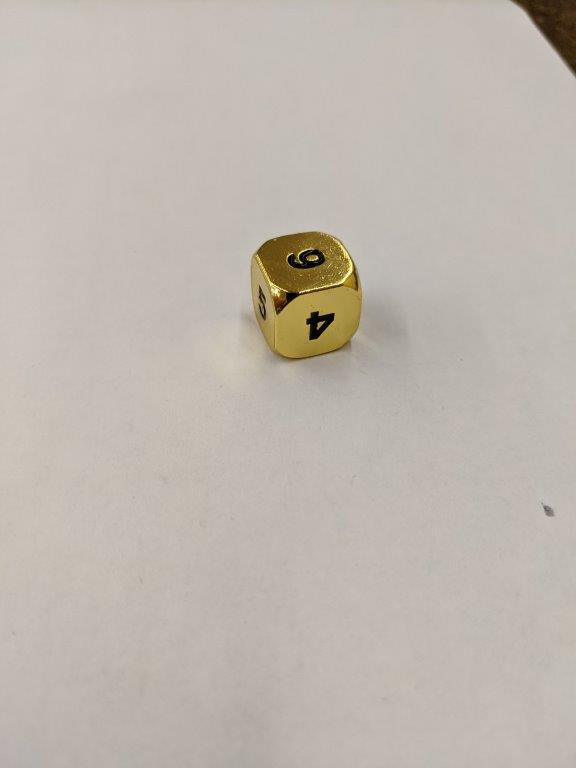d6-6: (255, 230, 365, 363)
